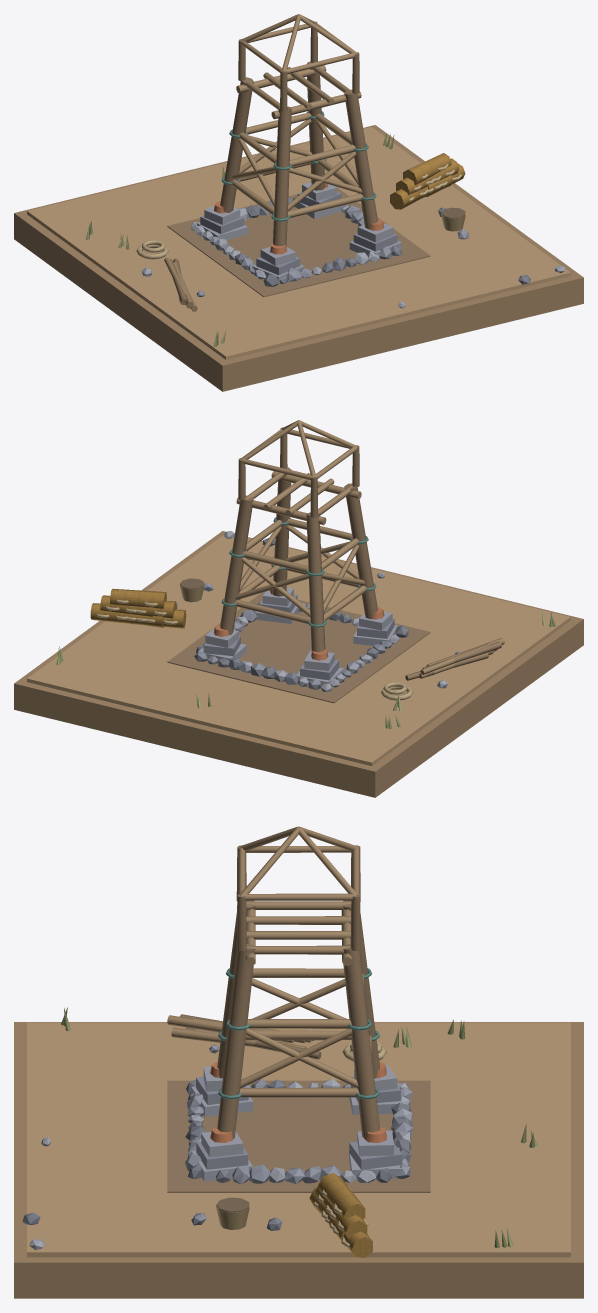
File: num-5-construction.glb
3 views of the same model, one above another, from view 1: azimuth 30°, elevation 25°; view 2: azimuth 150°, elevation 25°; view 3: azimuth 270°, elevation 25° (orthographic). The views are drawn at different scales.
Visible parts, largest first — view 1: era1; view 2: era1; view 3: era1.
Part boxes in pixels (x1,y1,x2,y2): era1: (14, 14, 583, 391); era1: (14, 420, 583, 797); era1: (14, 826, 583, 1298).
Size of the model in its own units: 13.18 by 8.83 by 13.
19 materials, 1 textured.
